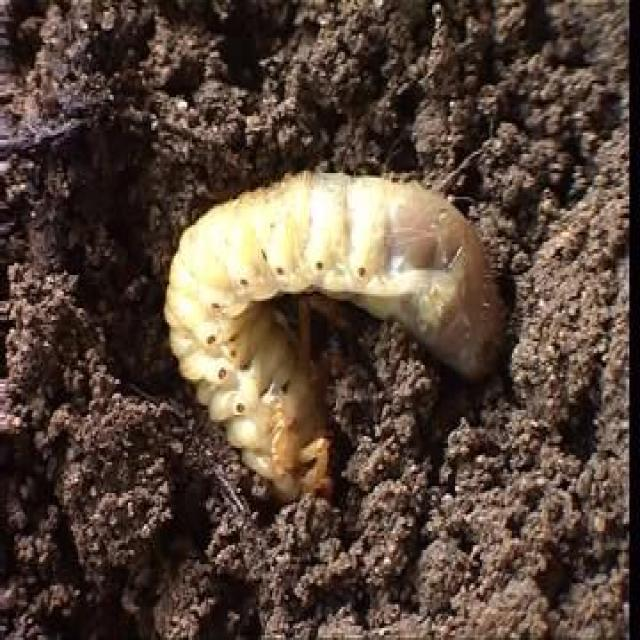Grub-Adult-: (157, 175, 522, 503)
